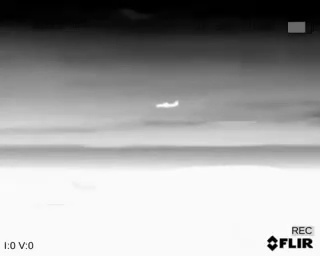AIRPLANE: (154, 99, 180, 110)
